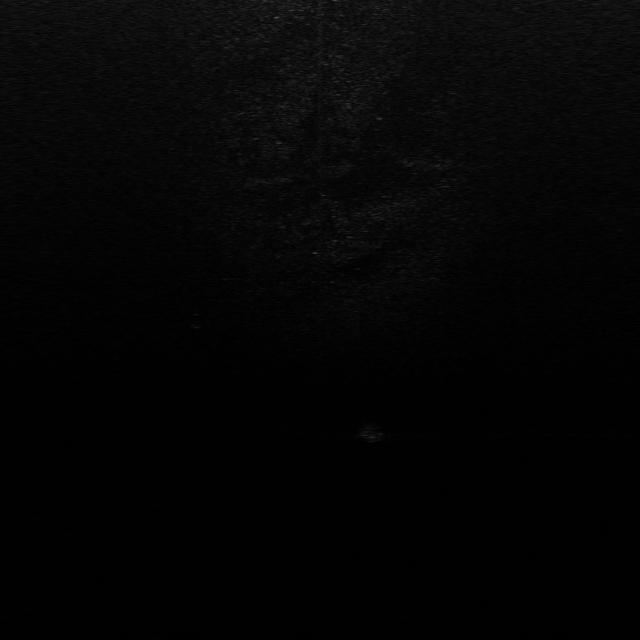ball: (358, 422, 387, 442)
circle cage: (186, 311, 212, 329)
